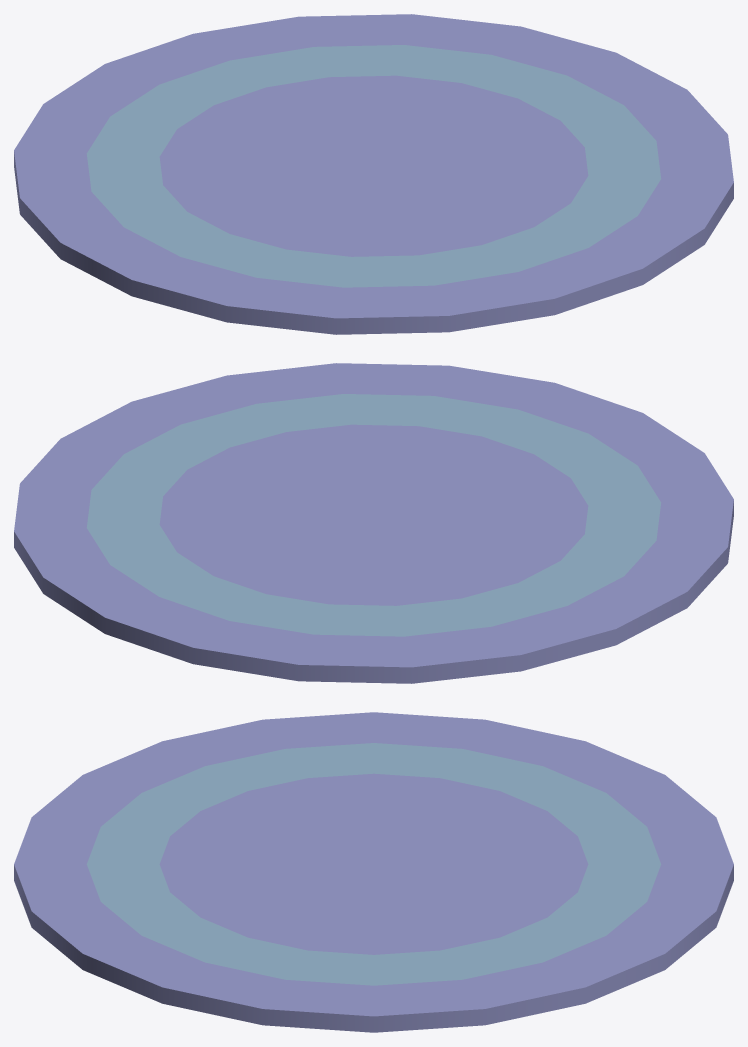
File: carpet-round-small.glb
3 renders of one model, top to bottom at view 1: azimuth 30°, elevation 25°; view 2: azimuth 150°, elevation 25°; view 3: azimuth 270°, elevation 25°, orthographic.
Visible parts, largest first — view 1: carpet-round-small; view 2: carpet-round-small; view 3: carpet-round-small.
Part boxes in pixels (x1,y1,x2,y2): carpet-round-small: [14, 14, 733, 334]; carpet-round-small: [14, 363, 733, 683]; carpet-round-small: [14, 712, 733, 1032].
Bounding box in the file's own units: 1 × 0.025 × 1.
